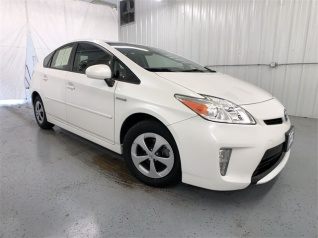Toyota Prius: (27, 36, 296, 196)
